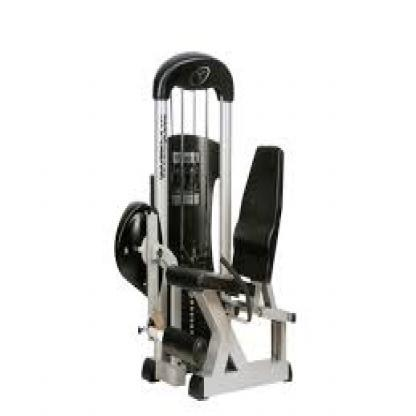leg extension: (105, 43, 310, 402)
